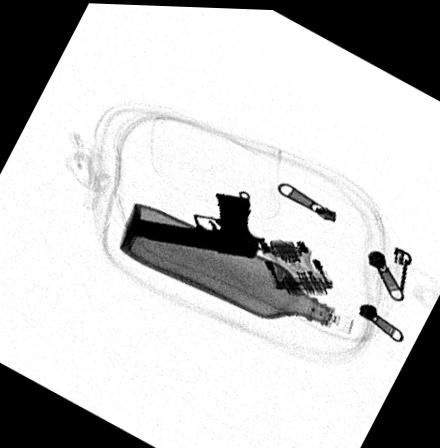Gun: (129, 189, 264, 256)
